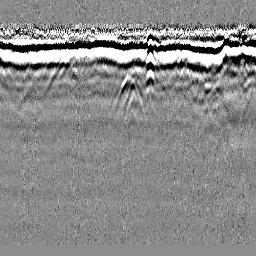cavity: (112, 73, 144, 115)
